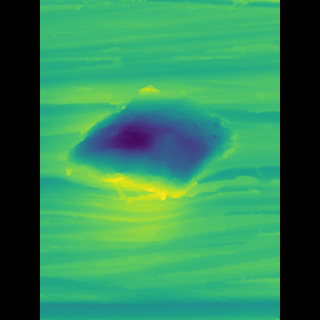Loch: (84, 80, 220, 213)
